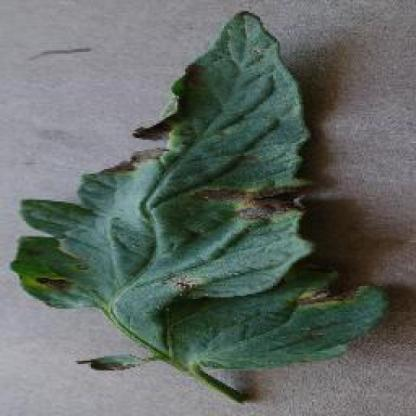Tomato_Blight: (15, 10, 387, 364)
